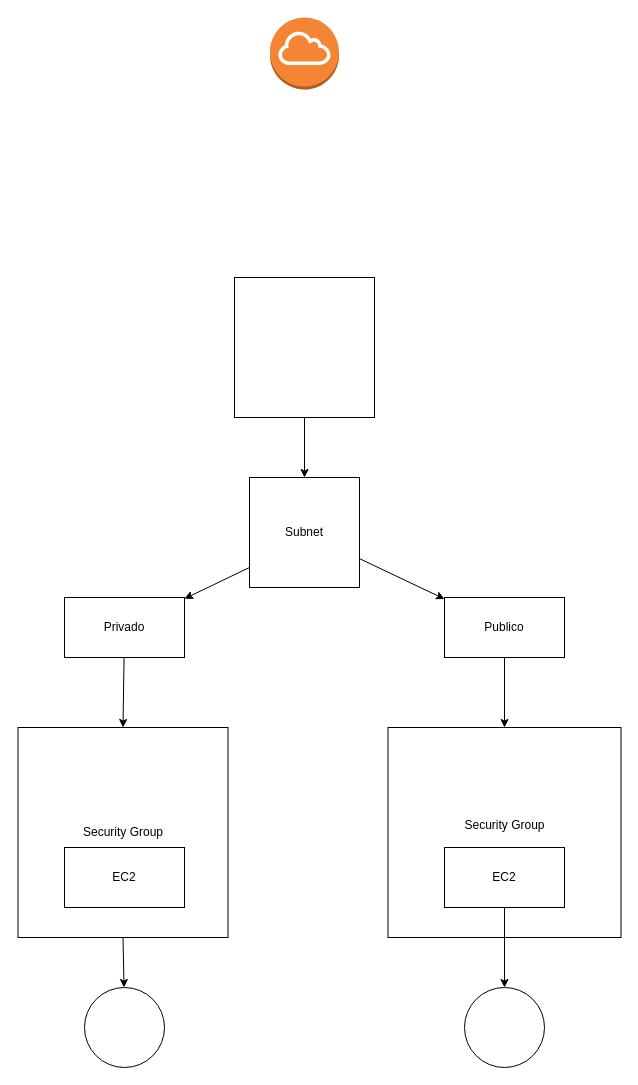
This 638x1085 diagram has some shape labels left out. The centre of each missing label's shape, as x and y in pixels:
"Banco de dados" goes at (x=124, y=1027).
"Front ou API" goes at (x=504, y=1027).
"VPC" goes at (x=304, y=347).
